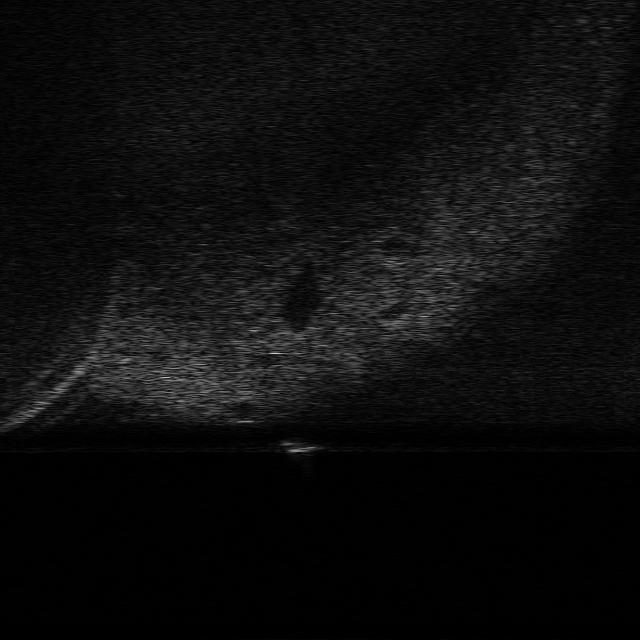cube: (275, 439, 326, 456)
